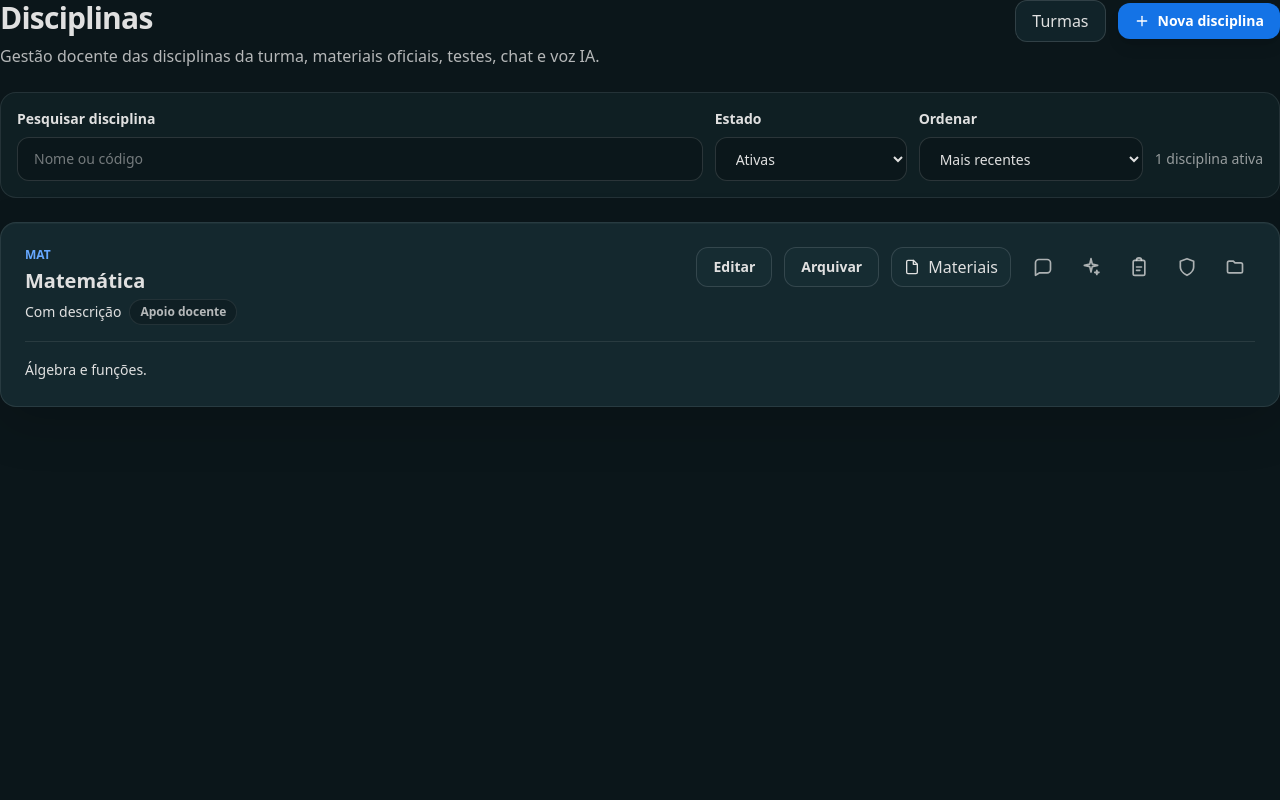
Scenario: TeacherSubjectsPage › edita a disciplina num SidePanel e reflete os dados confirmados pela API
The image size is (1280, 800).
Step 1. Click the button "Editar" → {"x": 734, "y": 267}, box [696,247,772,287]
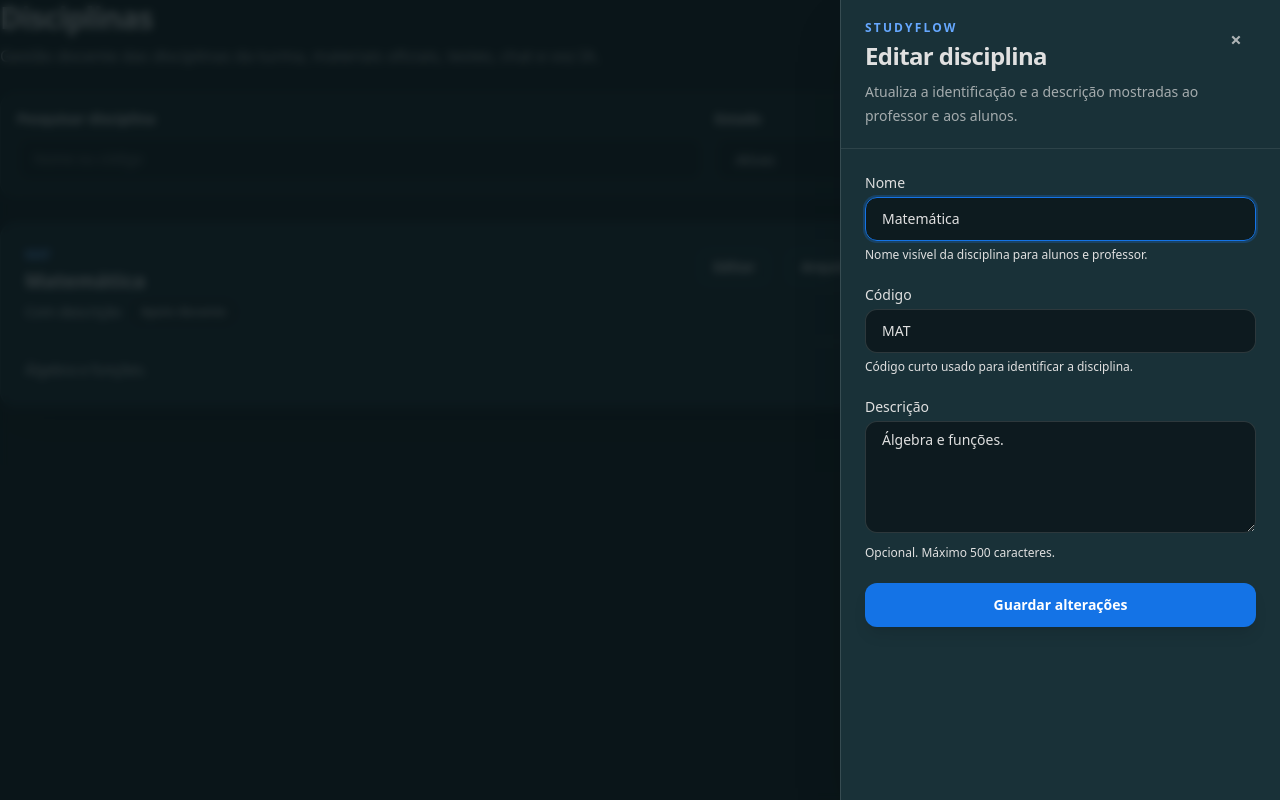
Result: the field labelled "Nome" holds "Matemática"
Step 2. Replace the text in the field labelled "Nome" with "Matemática A" → {"x": 1060, "y": 219}, box [865,197,1256,241]
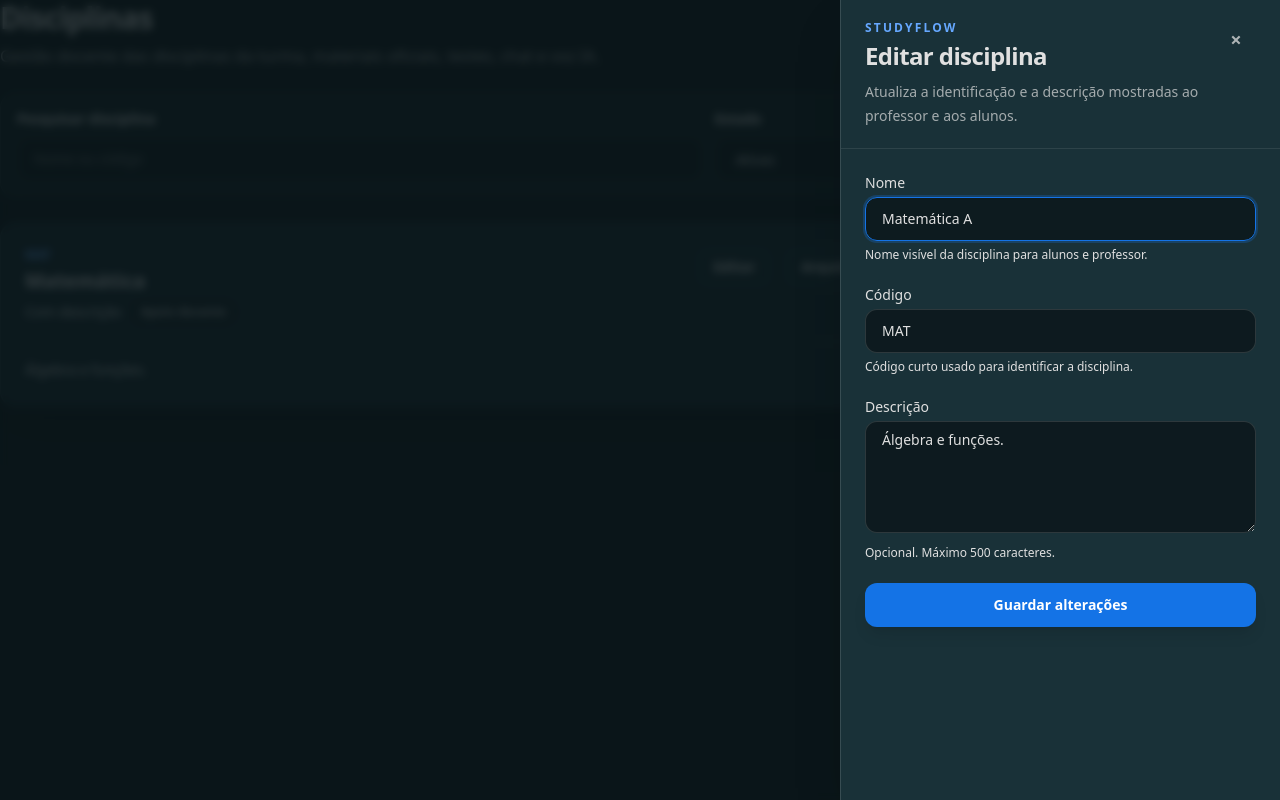
Step 3. Replace the text in the field labelled "Código" with "MAT-A" → {"x": 1060, "y": 331}, box [865,309,1256,353]
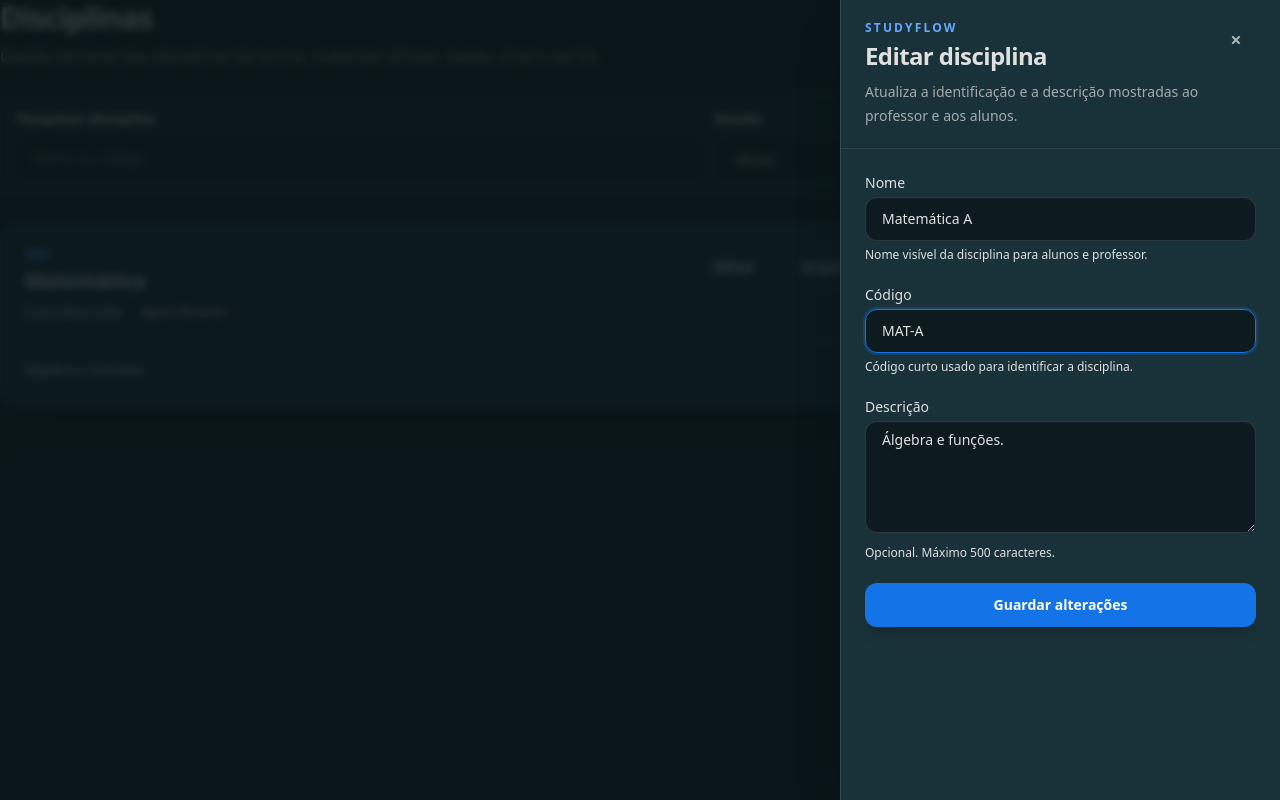
Step 4. Replace the text in the text box labelled "Descrição" with "Álgebra, funções e geometria." → {"x": 1060, "y": 477}, box [865,421,1256,533]
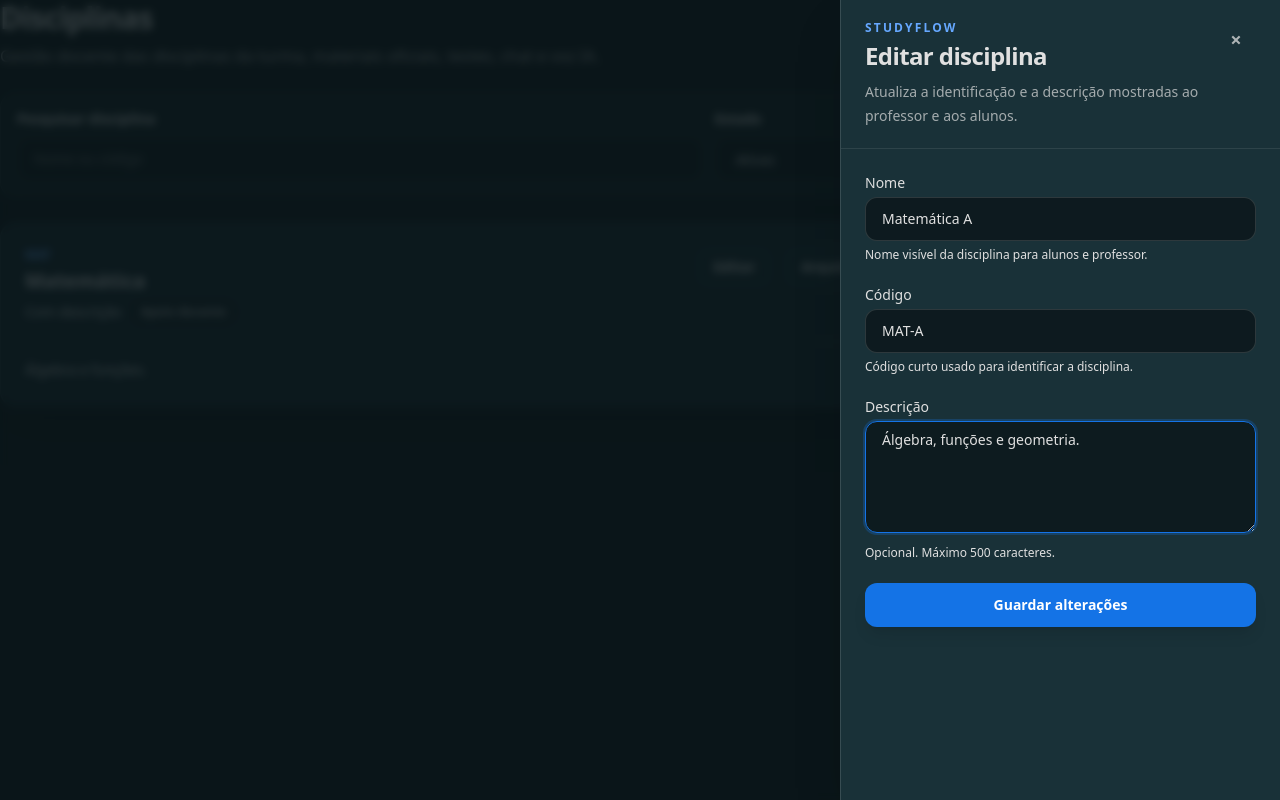
Step 5. Click the button "Guardar alterações" → {"x": 1060, "y": 605}, box [865,583,1256,627]
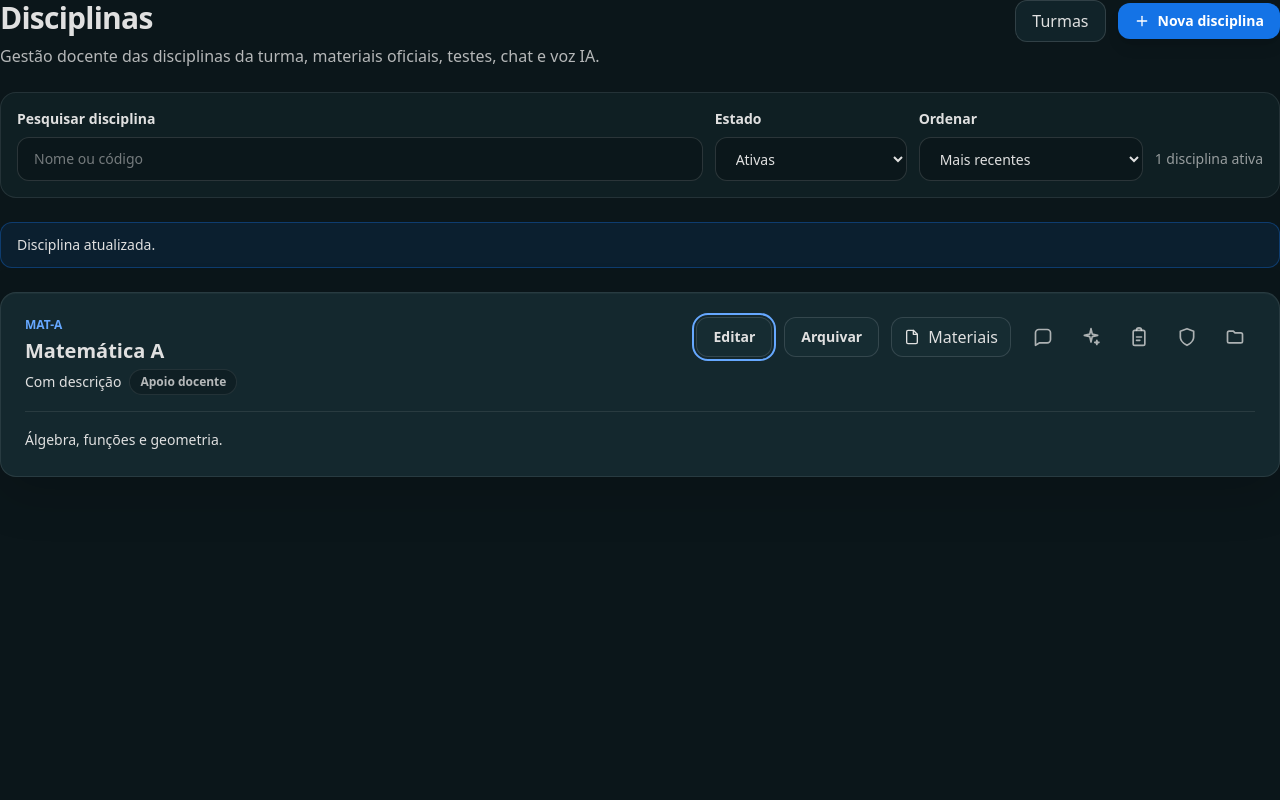
Result: the heading "Editar disciplina" is gone
Result: the message reads "Disciplina atualizada." at [17,235,155,254]
